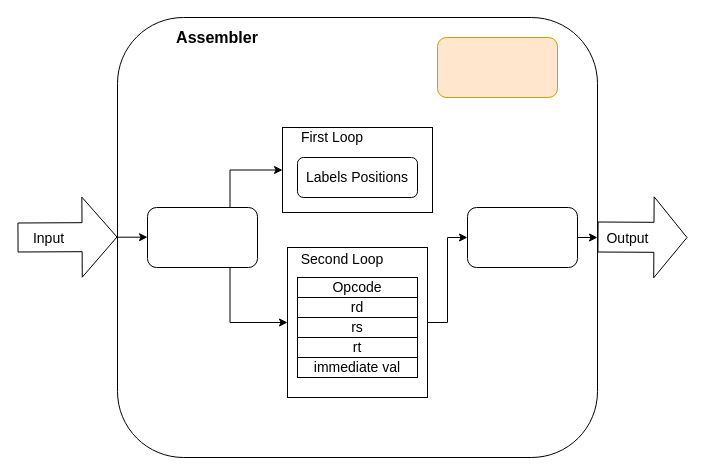
Some shapes in this 705 by 475 pixel diagram are drawn without their labels. Each missing label, with the centre of its shape:
"Static Mapping of Registers & Opcodes" belongs at pixel 497 67.
"Text Parser" belongs at pixel 202 237.
"Text Writer" belongs at pixel 522 237.
